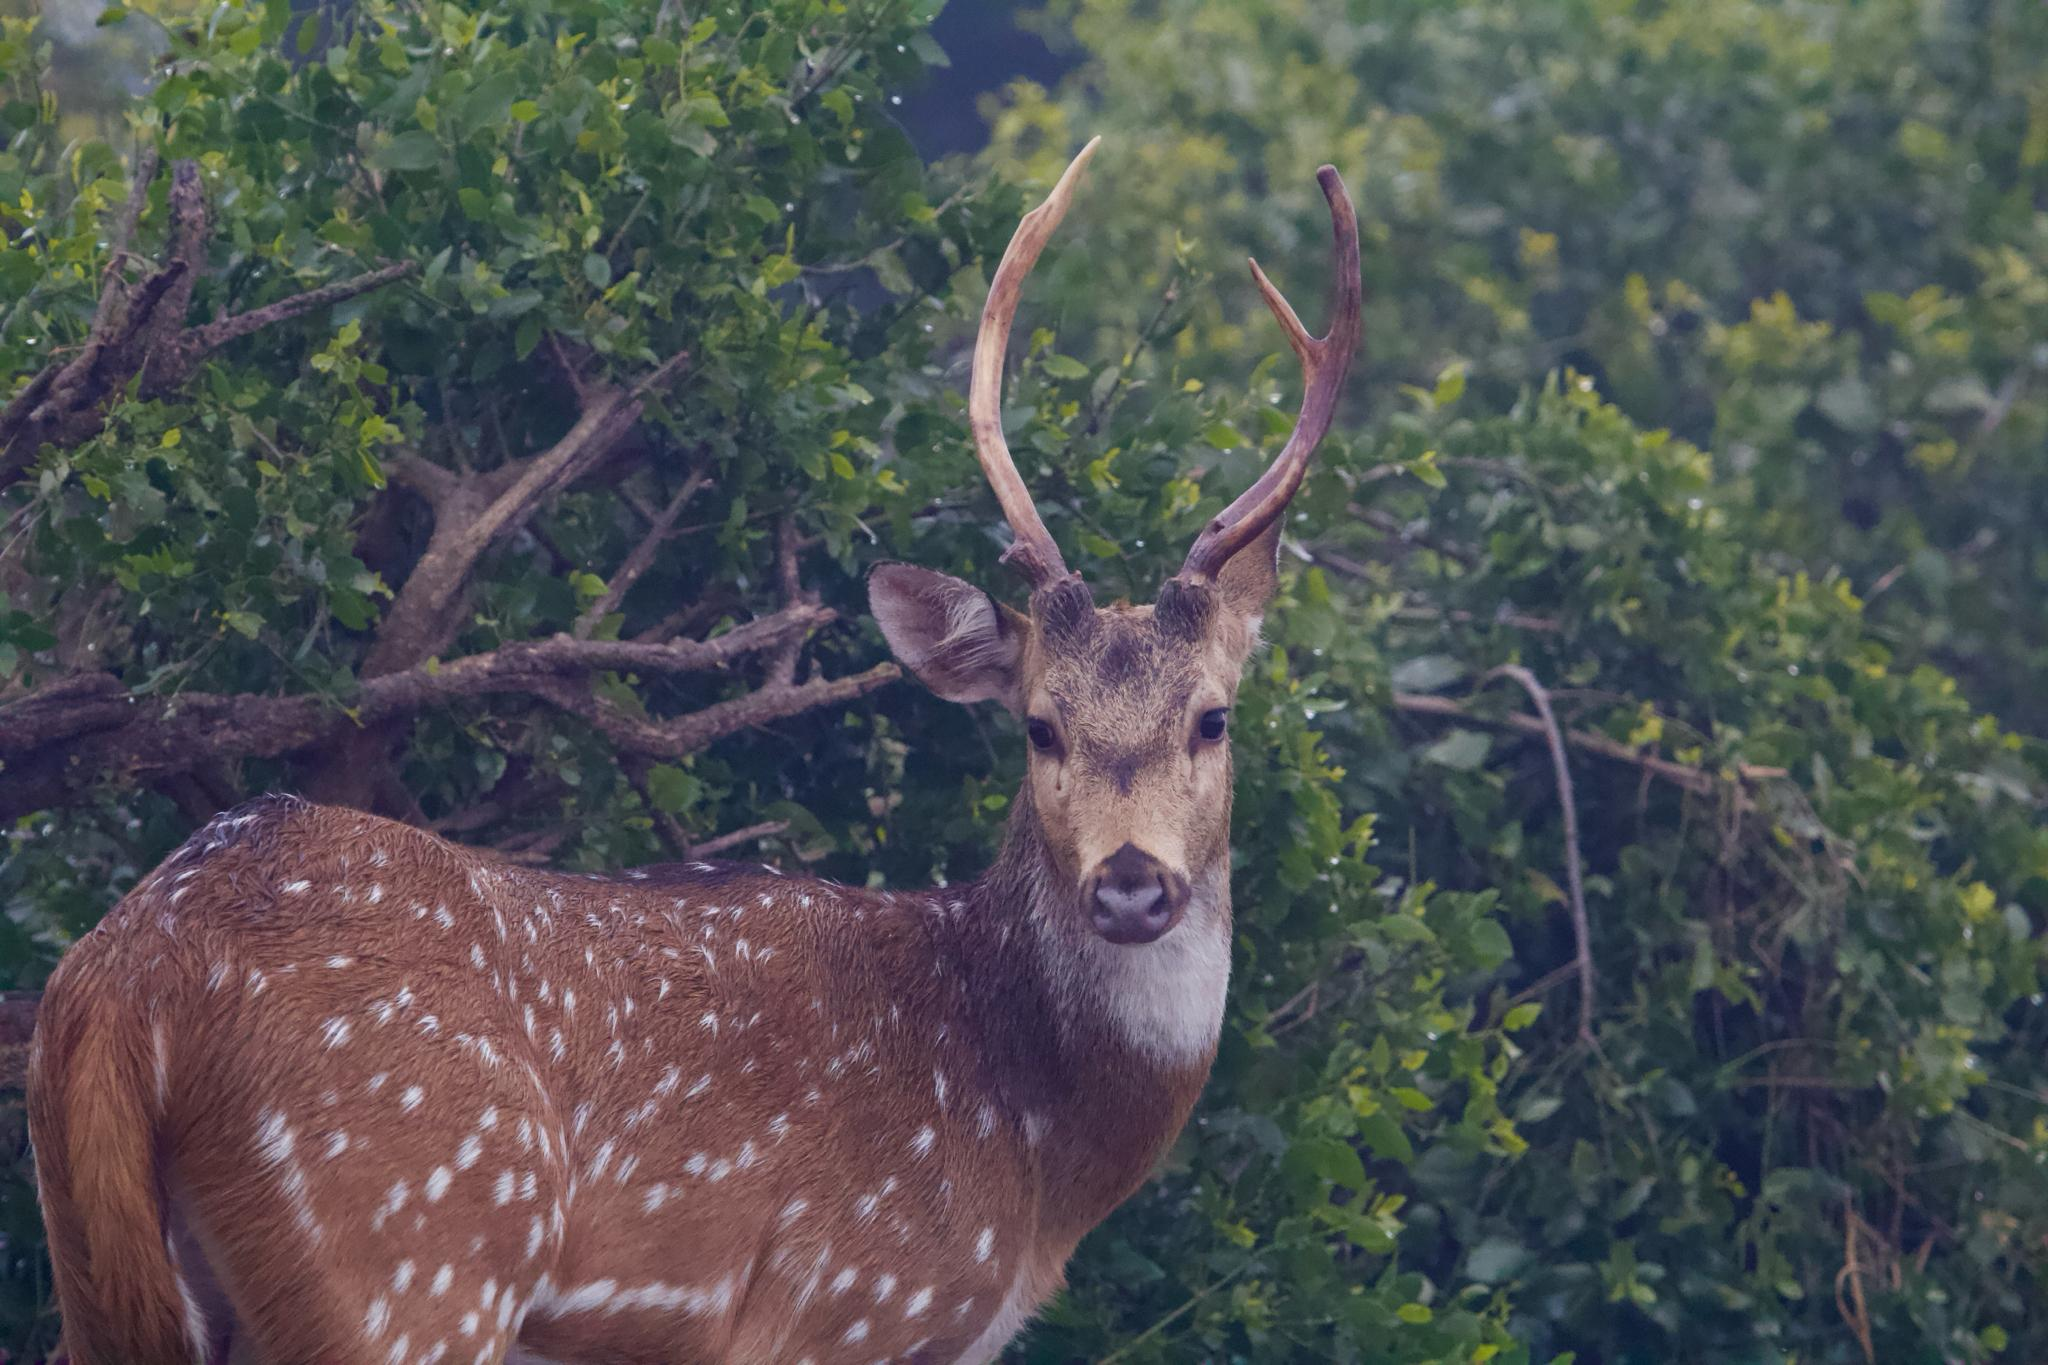Deer: (27, 139, 1360, 1363)
